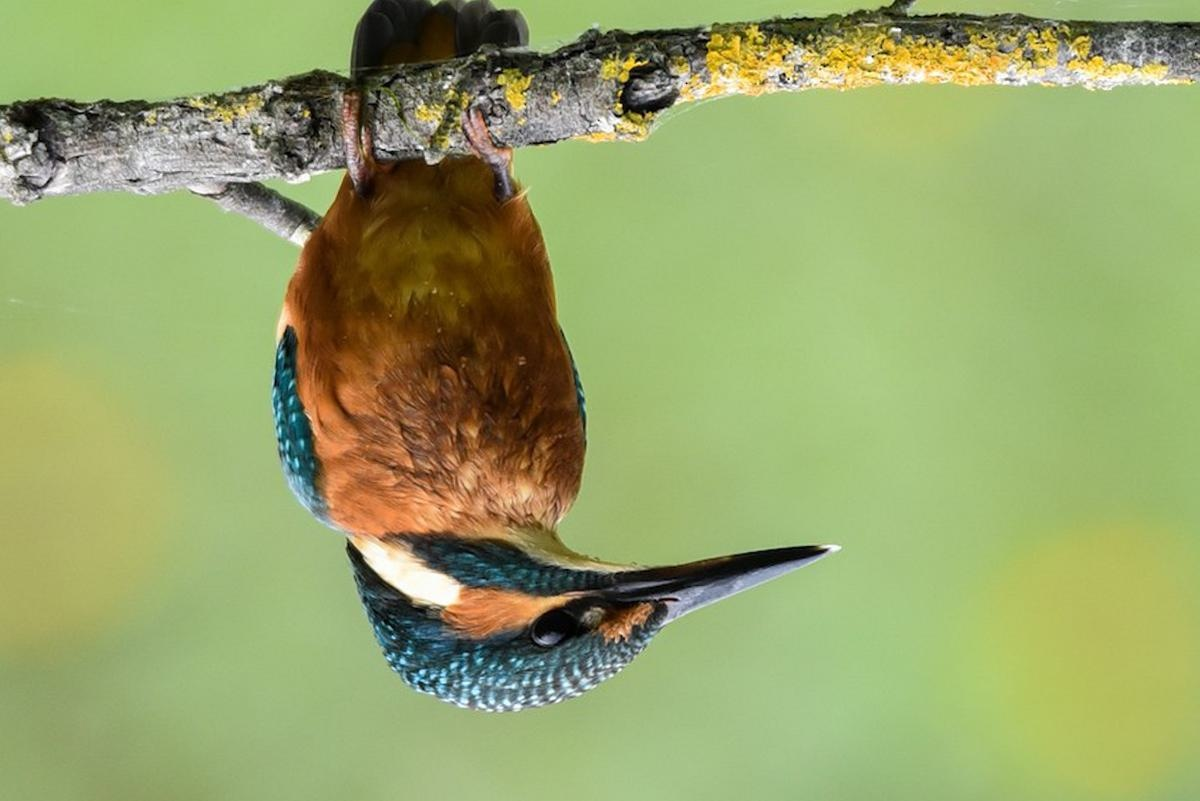kingfisher: (280, 15, 836, 713)
